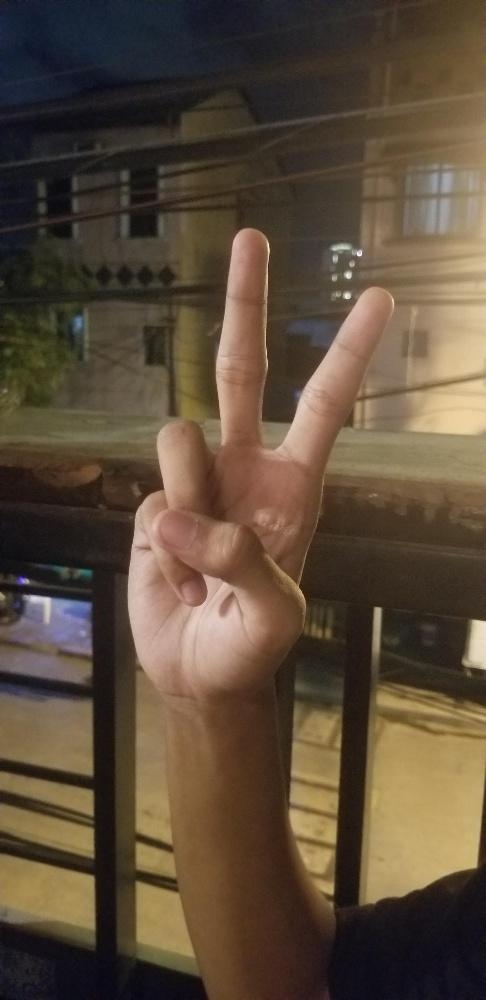v: (126, 225, 394, 692)
